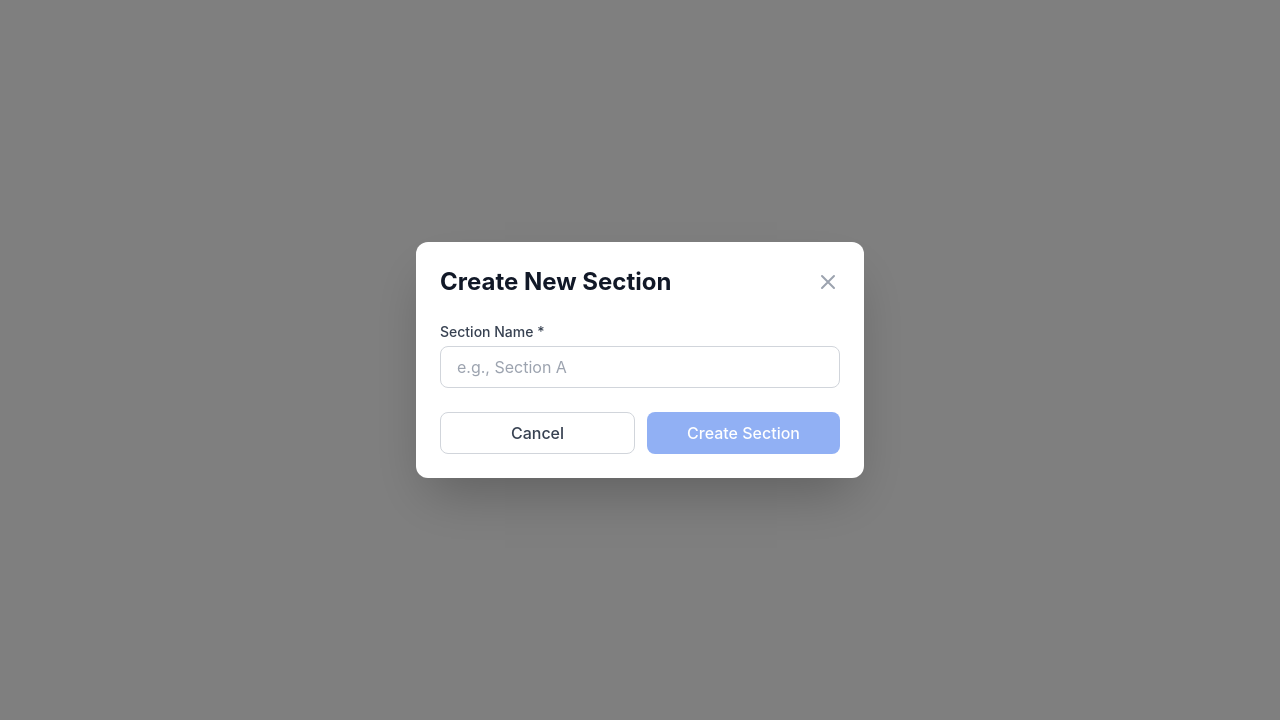
Test case: CreateSectionModal › shows generic error when API fails without error message
Type "Section A" into the field labelled "Section Name *".
click(640, 367); type("Section A")  # box [440,346,840,388]
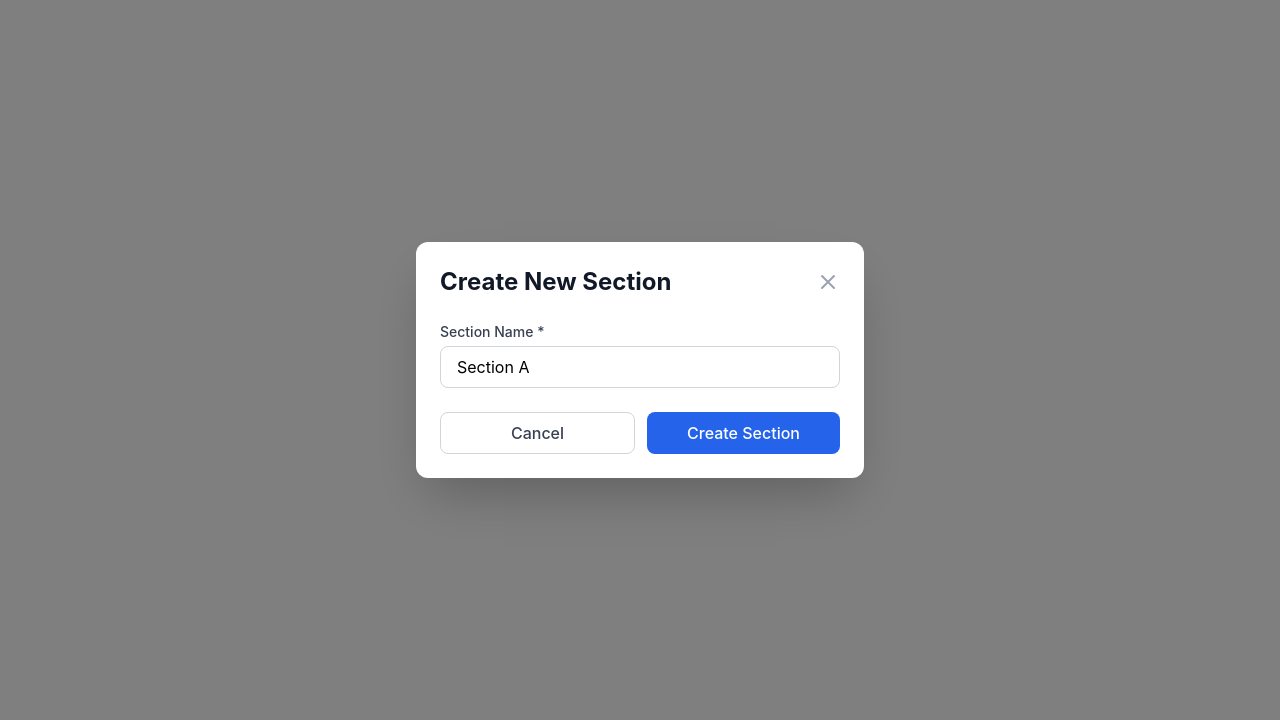
Click the button "Create Section".
click(744, 433)  # box [647,412,840,454]
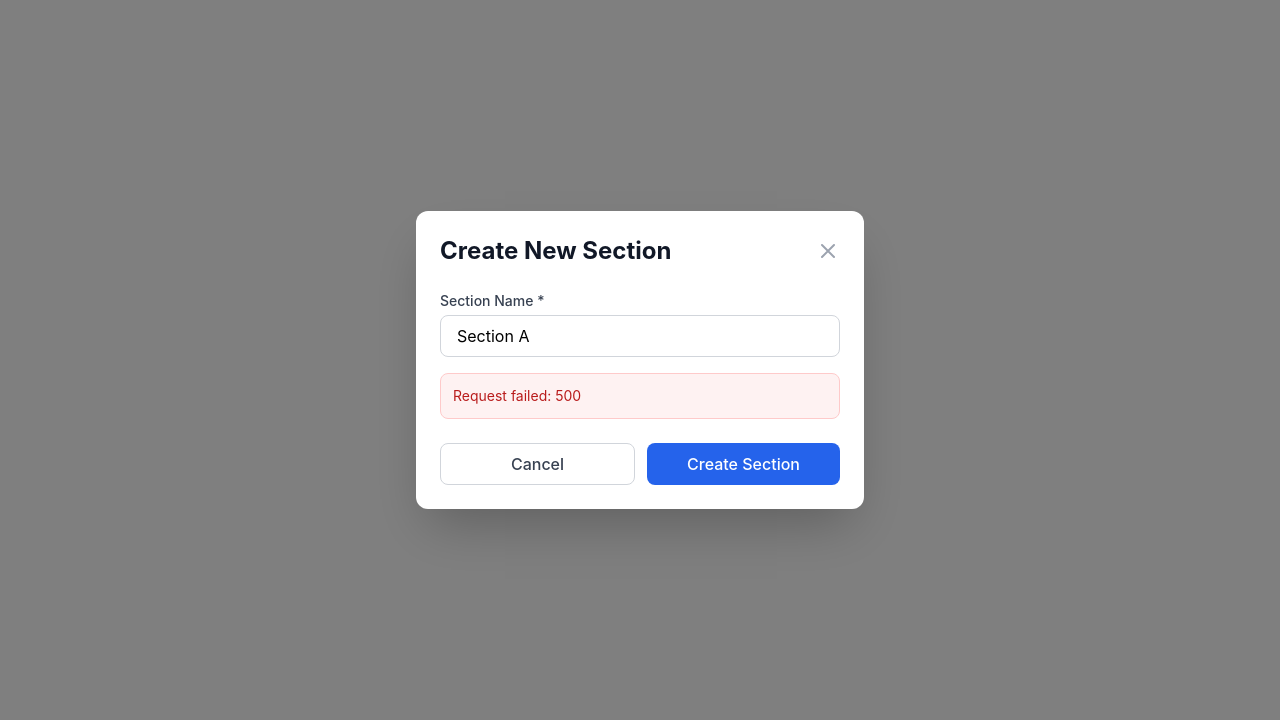
Expected: the text "Request failed: 500" is shown, [440,373,840,419]
